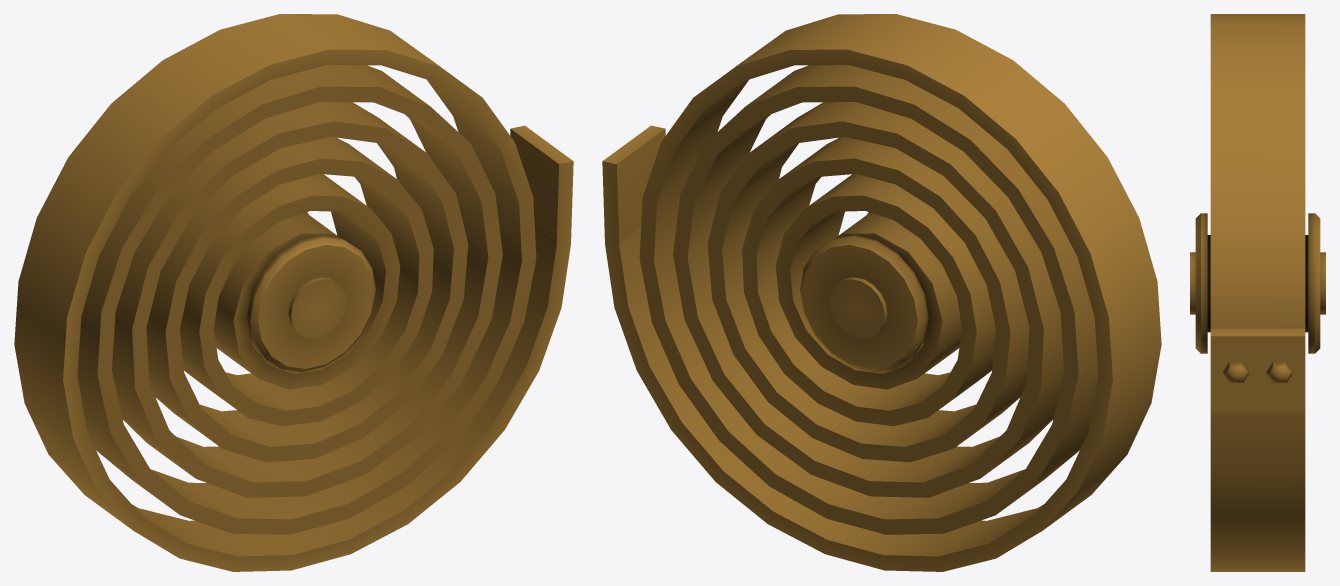
File: spring_standard.glb
3 views of the same model, side by side, from view 1: azimuth 30°, elevation 25°; view 2: azimuth 150°, elevation 25°; view 3: azimuth 270°, elevation 25° (orthographic). The views are drawn at different scales.
Visible parts, largest first — view 1: Spring_Standard; view 2: Spring_Standard; view 3: Spring_Standard.
Part boxes in pixels (x1,y1,x2,y2): Spring_Standard: (14, 14, 573, 571); Spring_Standard: (602, 14, 1161, 571); Spring_Standard: (1190, 14, 1325, 571).
Size of the model in its own units: 0.043 by 0.0406 by 0.01.
